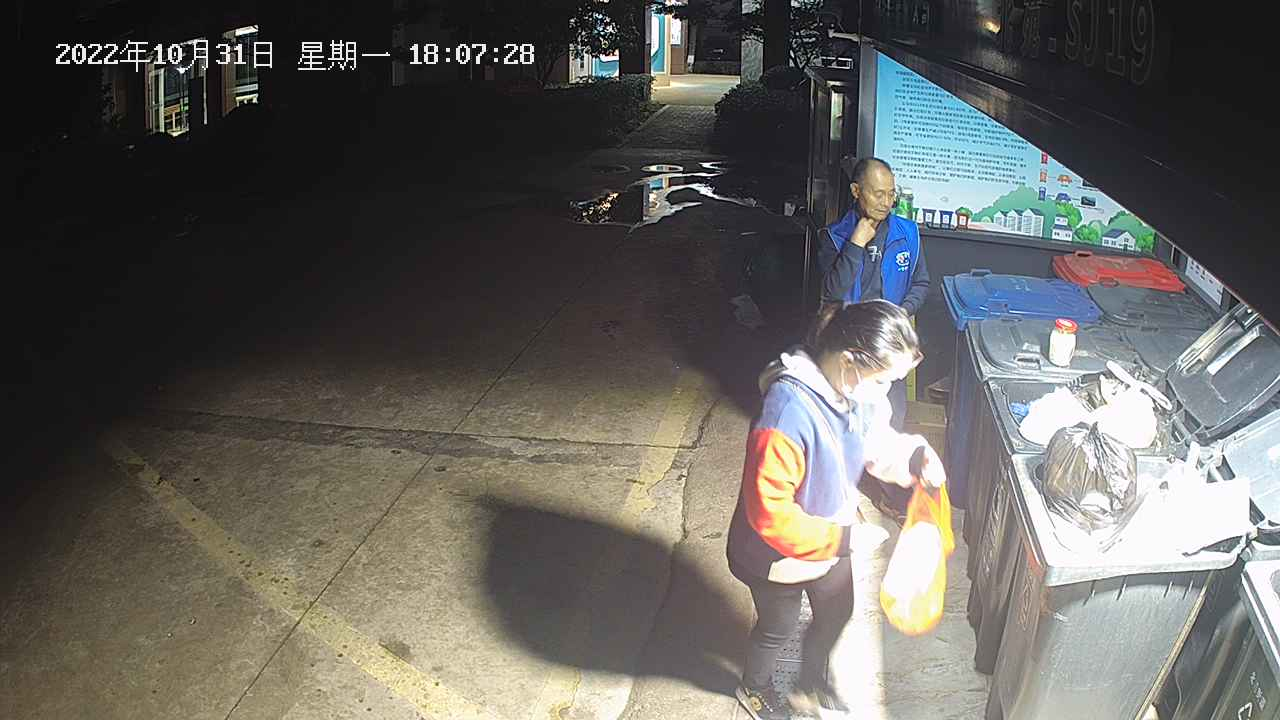garbage-bag: (878, 481, 957, 638)
worker: (725, 298, 947, 720), (813, 156, 931, 526)
